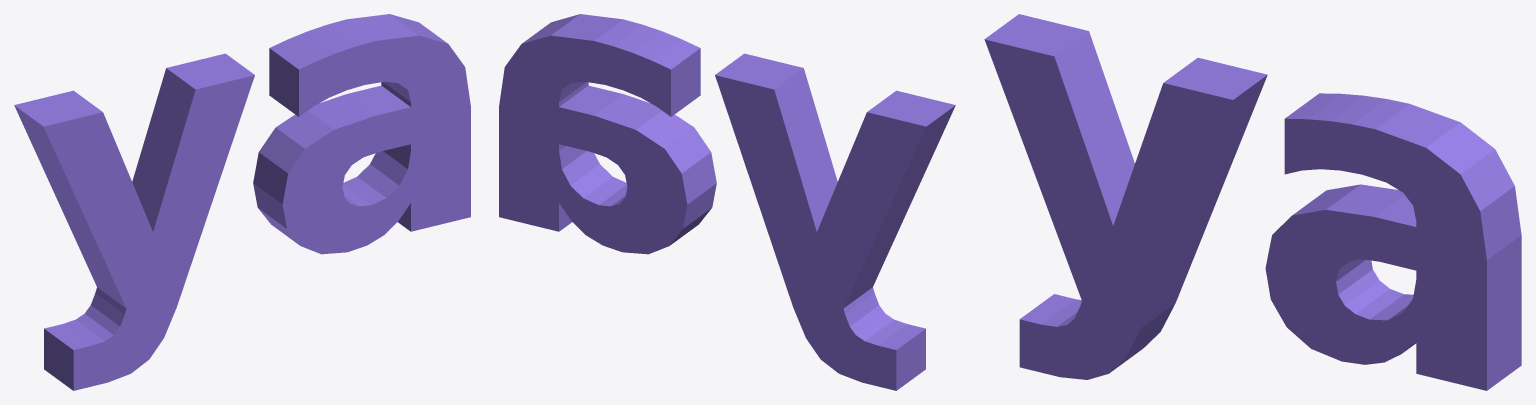
Rendered from suku_kecil_ya.glb.
The picture shows the model from 3 angles, left to right: view 1: azimuth 30°, elevation 25°; view 2: azimuth 150°, elevation 25°; view 3: azimuth 330°, elevation 25°; orthographic projection. The views are drawn at different scales.
Visible parts, largest first — view 1: geometry_0; view 2: geometry_0; view 3: geometry_0.
Part boxes in pixels (x1,y1,x2,y2): geometry_0: (14, 14, 470, 390); geometry_0: (499, 14, 955, 390); geometry_0: (984, 14, 1521, 390).
Size of the model in its own units: 12.56 by 7.76 by 1.5.
